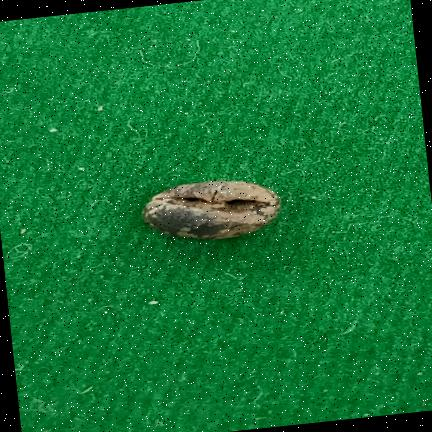partial-black: (142, 181, 280, 240)
